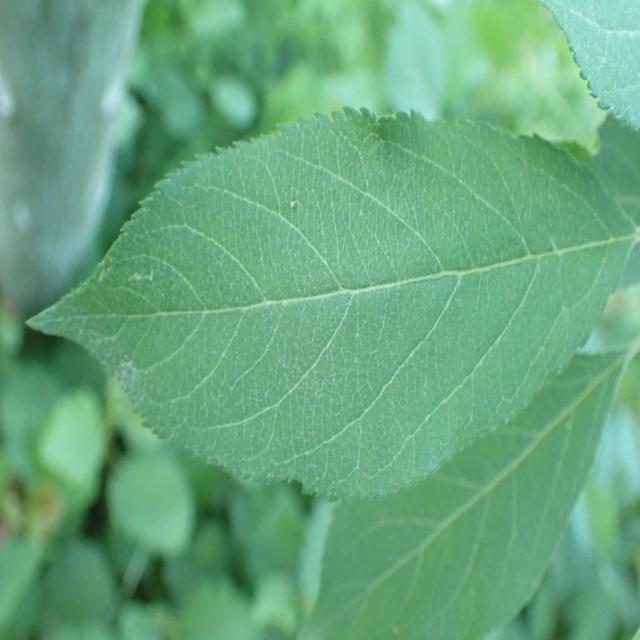healthy: (25, 105, 638, 504), (295, 347, 629, 639), (536, 0, 640, 132)
